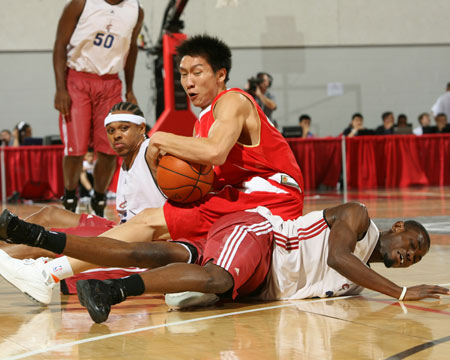10+: (1, 1, 450, 360)
down: (1, 31, 304, 307), (1, 198, 448, 327), (102, 87, 171, 199)
